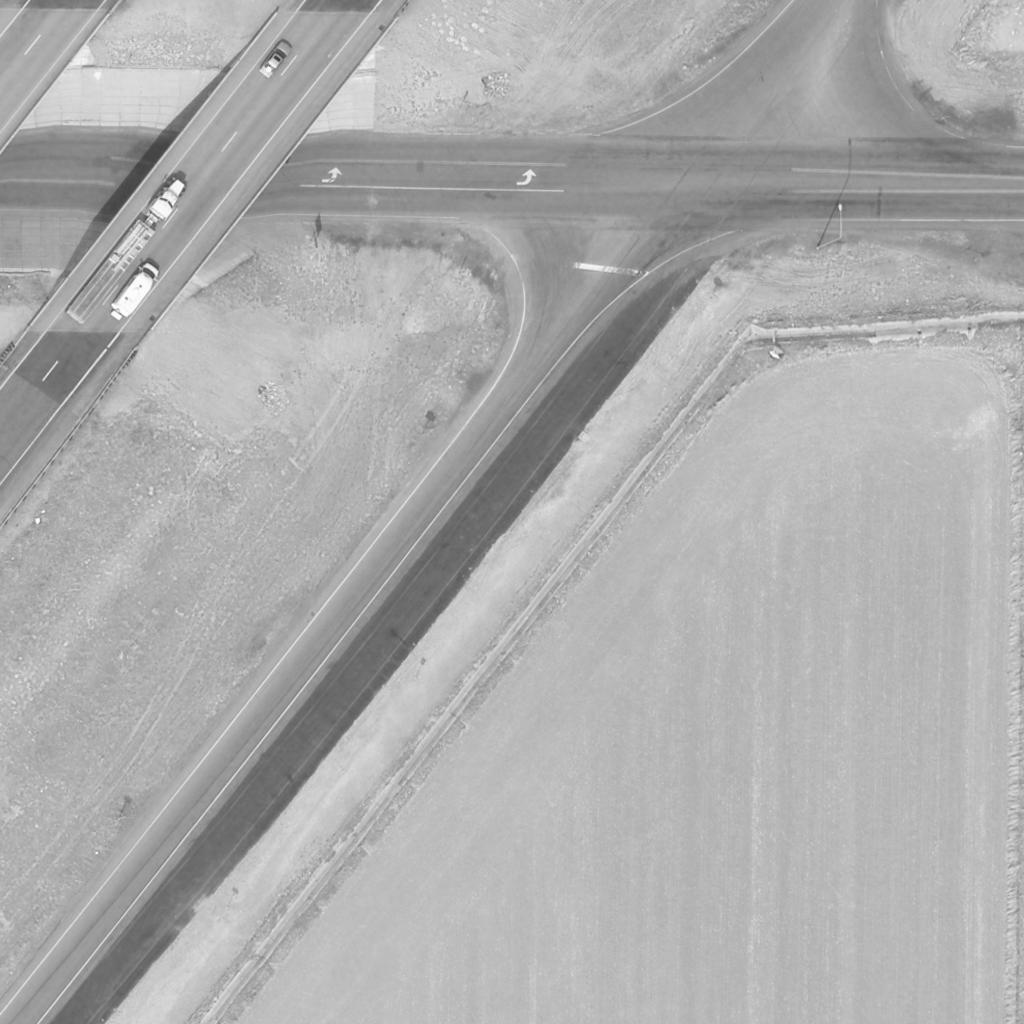vehicle: (65, 175, 189, 325), (108, 262, 162, 320), (260, 38, 292, 82)
